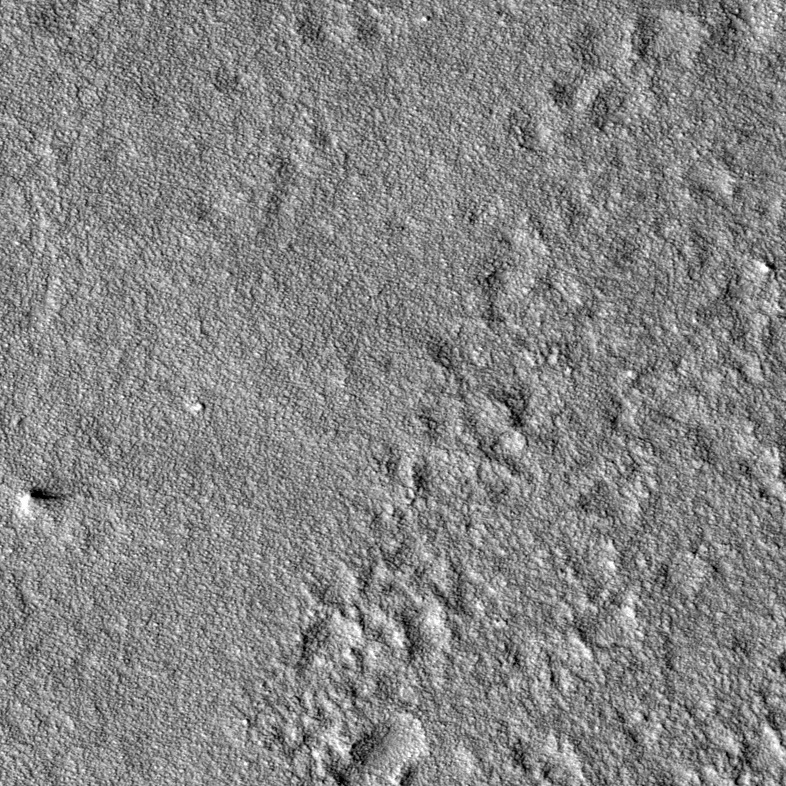dust_devil: (17, 485, 67, 515)
